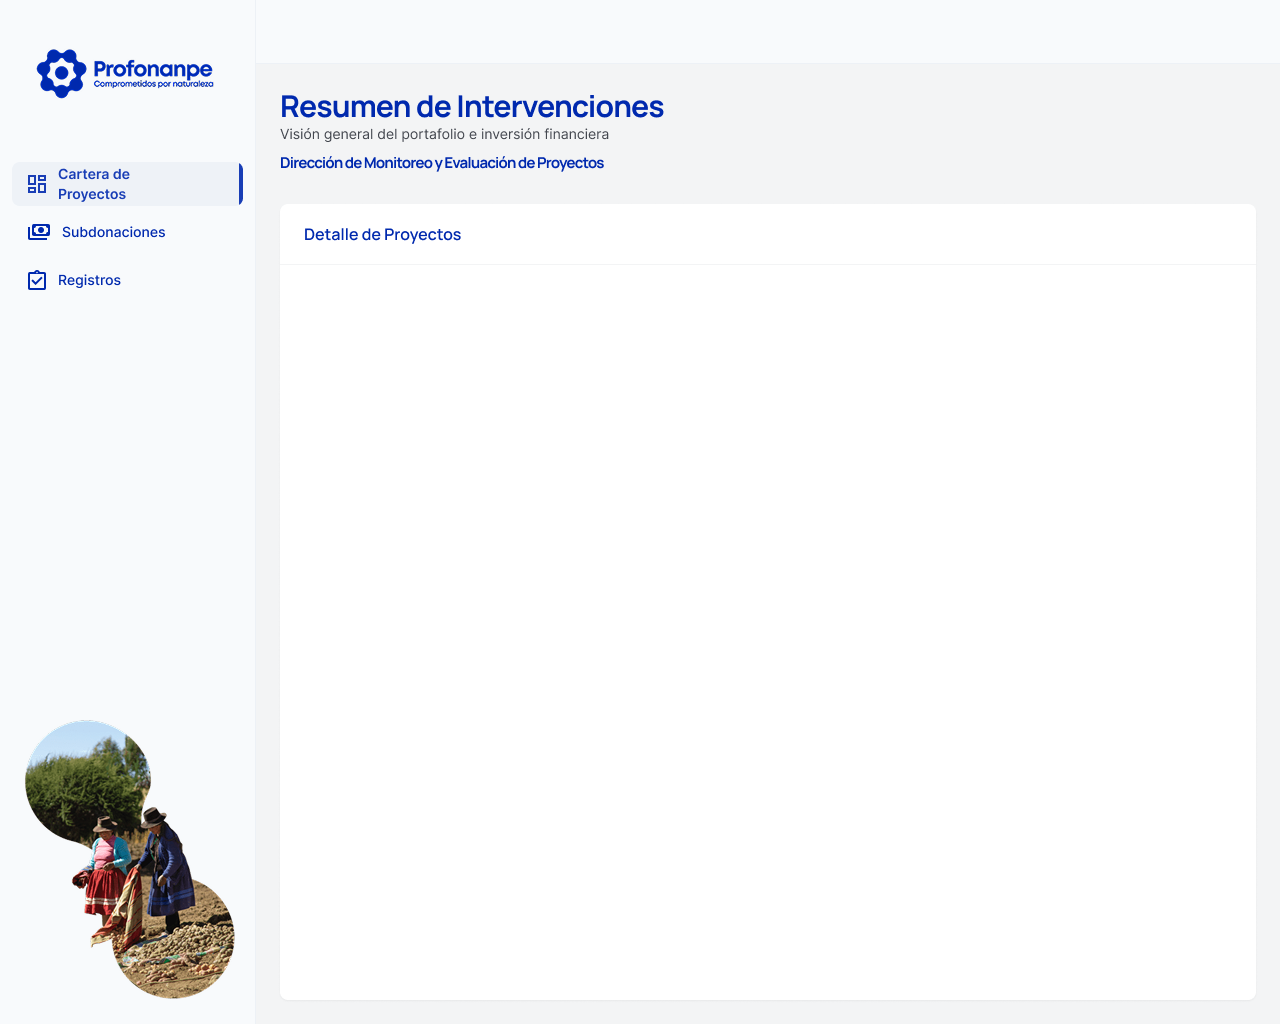

What the dashboard file says about the page in this screenshot:
{"tool":"powerbi","page":{"name":"Detalle Proyecto","canvas":[1280,720],"ordinal":1},"visuals":[{"type":"tableEx","fields":{"Values":["Fact_Proyectos.CodigoProyecto","Fact_Proyectos.Aliados para la ejecución ( Gores, Municipalidades y  Empresas)","Fact_Proyectos.Avances Clave ( al 31.12.25)"]},"box":[40.4,0,1240,720.2],"z":0},{"type":"actionButton","box":[0,0,100,40],"z":1000}]}

Visuals, with their boxes on the page's 1280x720 design canvas (x1, y1, x2, y2). These are canvas units, not pixel positions in the 1280x1024 screenshot, which may show the page scaled, cropped or inside an application window:
tableEx - Fact_Proyectos.CodigoProyecto x Fact_Proyectos.Aliados para la ejecución ( Gores, Municipalidades y  Empresas): bbox(40, 0, 1280, 720)
actionButton: bbox(0, 0, 100, 40)
